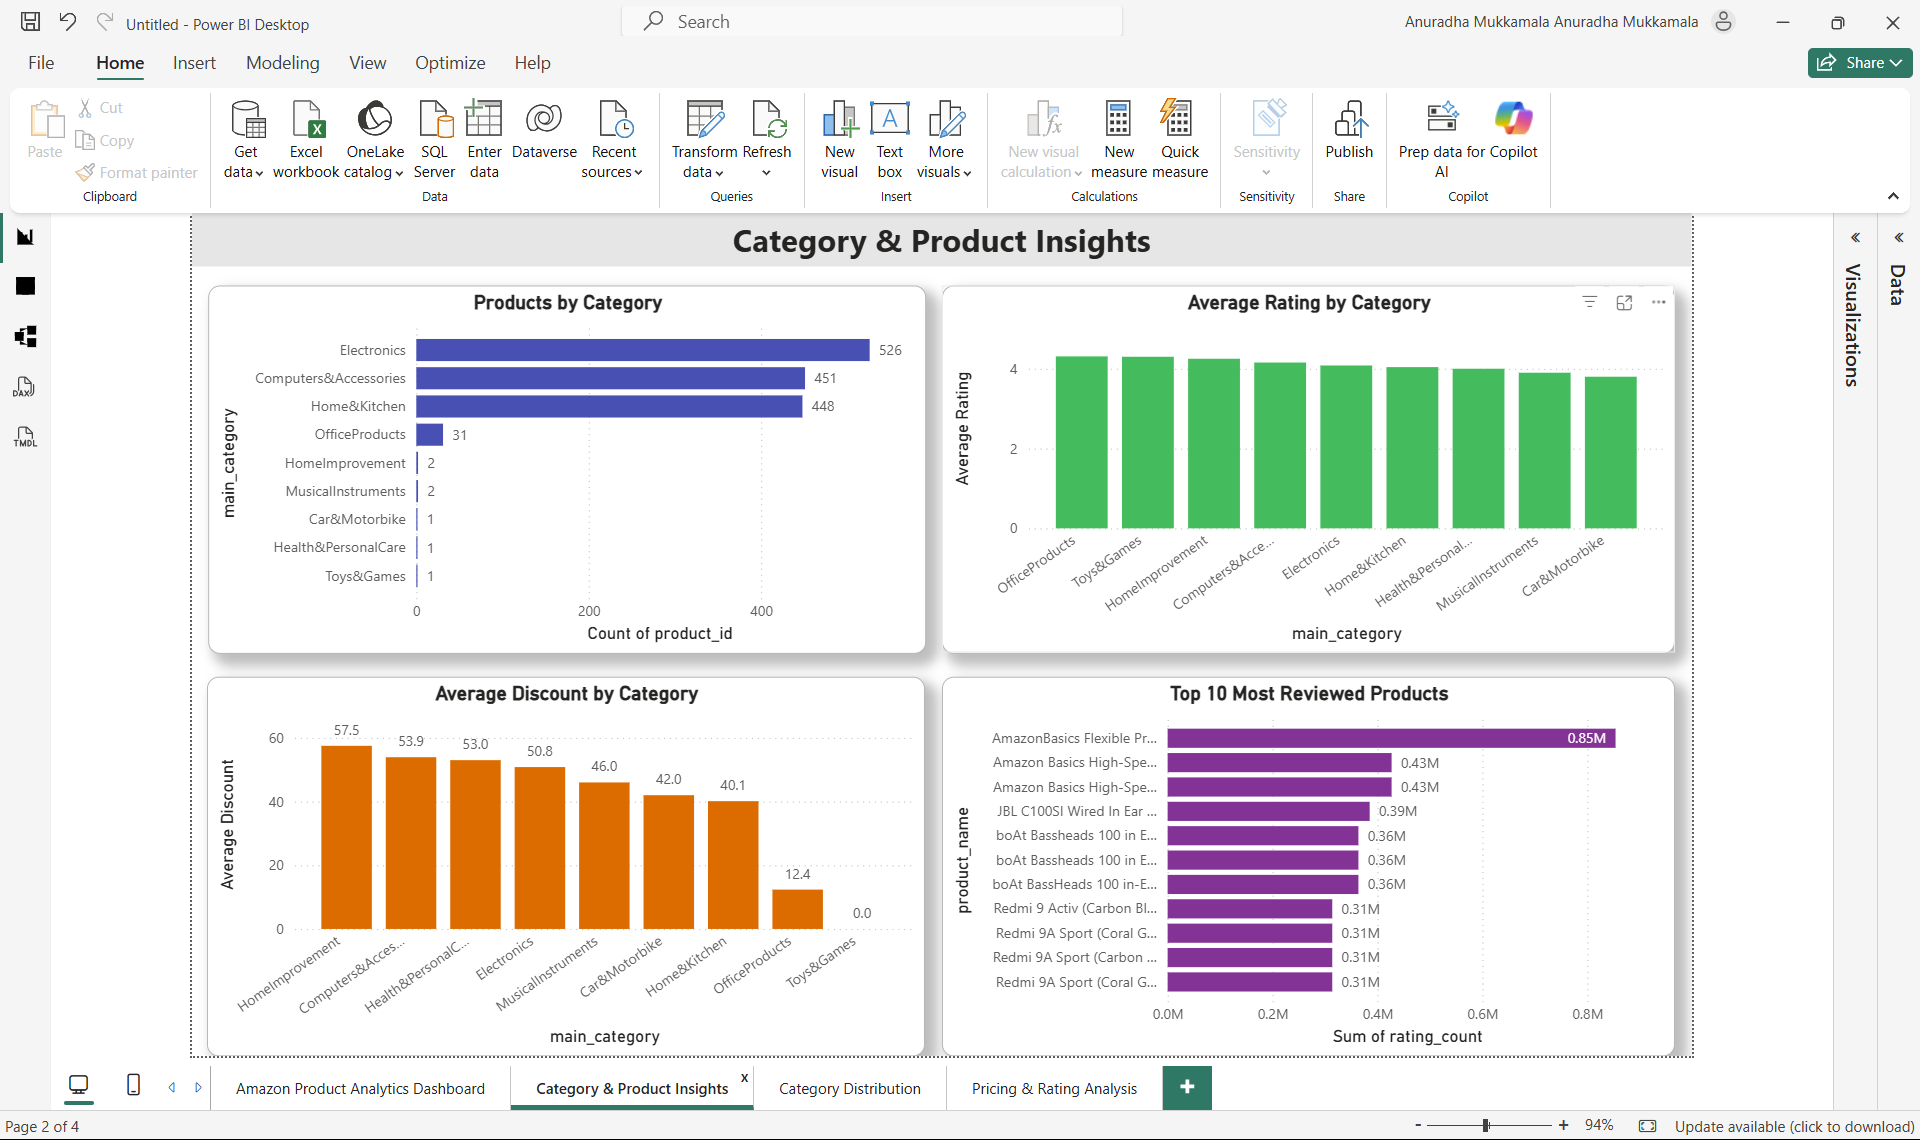

This screenshot's page, from the dashboard's own definition file:
{"tool":"powerbi","page":{"name":"Category & Product Insights","canvas":[1280,720],"ordinal":1},"visuals":[{"type":"clusteredBarChart","title":"Products by Category","fields":{"Category":["amazon_dataset_final_cleaned.main_category"],"Y":["CountNonNull(amazon_dataset_final_cleaned.product_id)"]},"box":[14.3,61.4,612.9,314.3],"z":0},{"type":"clusteredColumnChart","title":"Average Rating by Category","fields":{"Category":["amazon_dataset_final_cleaned.main_category"],"Y":["amazon_dataset_final_cleaned.Average Rating"]},"box":[640,61.4,625.7,314.3],"z":1000},{"type":"clusteredColumnChart","title":"Average Discount by Category","fields":{"Category":["amazon_dataset_final_cleaned.main_category"],"Y":["amazon_dataset_final_cleaned.Average Discount"]},"box":[12.9,395.7,612.9,324.3],"z":2000},{"type":"clusteredBarChart","title":"Top 10 Most Reviewed Products","fields":{"Y":["Sum(amazon_dataset_final_cleaned.rating_count)"],"Category":["amazon_dataset_final_cleaned.product_name"]},"box":[640,395.7,625.7,324.3],"z":3000},{"type":"textbox","box":[0,0,1280,45.7],"z":4000}]}

Visuals, with their boxes on the page's 1280x720 design canvas (x1, y1, x2, y2). These are canvas units, not pixel positions in the 1920x1140 screenshot, which may show the page scaled, cropped or inside an application window:
"Products by Category" clusteredBarChart: region(14, 61, 627, 376)
"Average Rating by Category" clusteredColumnChart: region(640, 61, 1266, 376)
"Average Discount by Category" clusteredColumnChart: region(13, 396, 626, 720)
"Top 10 Most Reviewed Products" clusteredBarChart: region(640, 396, 1266, 720)
textbox: region(0, 0, 1280, 46)
